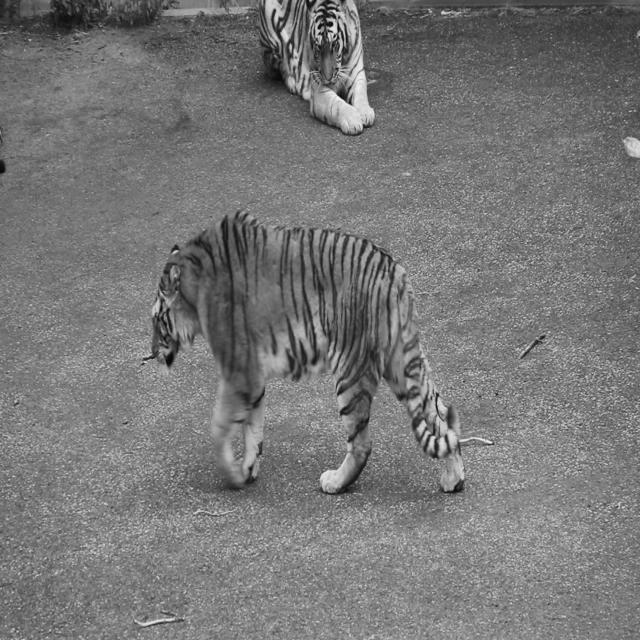Tiger: (140, 208, 467, 496), (257, 0, 375, 136)
